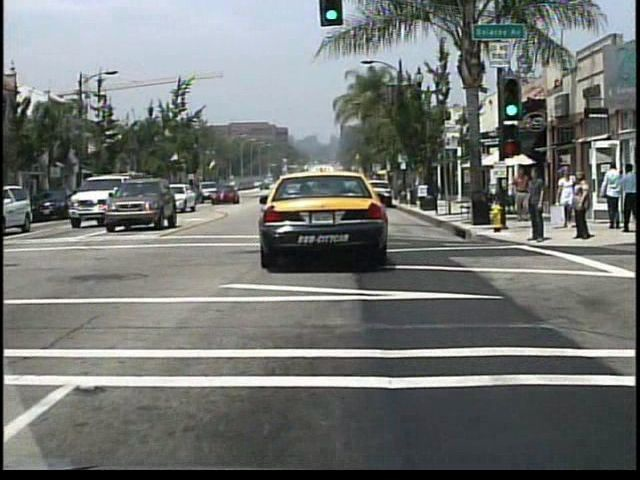person: (527, 164, 548, 243), (615, 165, 638, 233), (574, 170, 595, 241), (599, 159, 619, 230), (553, 165, 575, 227), (512, 169, 531, 222)
